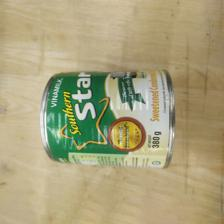NSPN_Lon: (38, 68, 178, 172)
